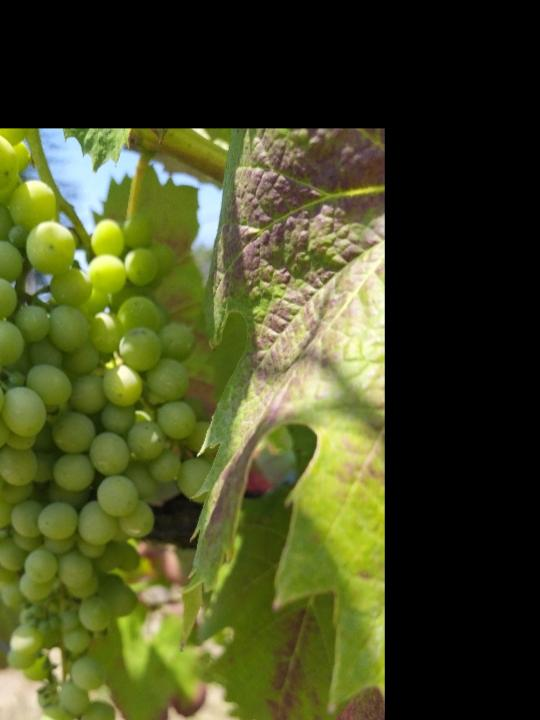grape: (0, 129, 219, 720)
